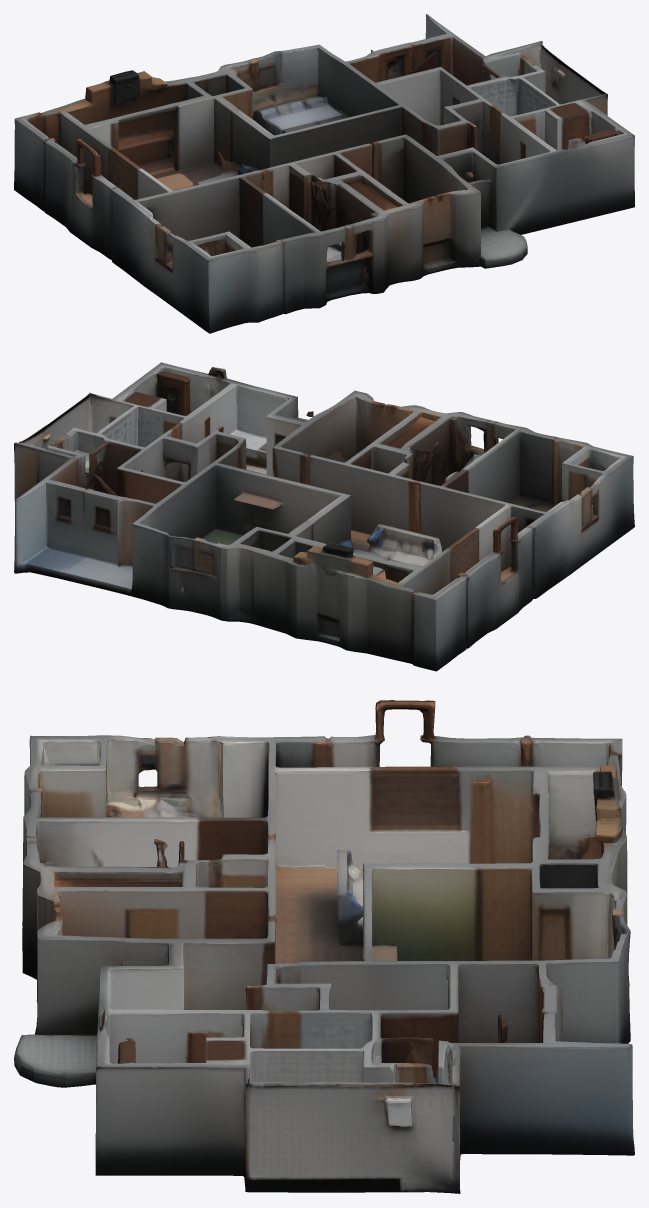
3 views of the same model, one above another, from view 1: azimuth 30°, elevation 25°; view 2: azimuth 150°, elevation 25°; view 3: azimuth 270°, elevation 25° (orthographic). The views are drawn at different scales.
Visible parts, largest first — view 1: world; view 2: world; view 3: world.
Boxes of the visible parts, bbox=[...] form: world: bbox=[14, 14, 634, 333]; world: bbox=[14, 362, 634, 671]; world: bbox=[14, 700, 634, 1193].
Size of the model in its own units: 0.9996 by 0.1941 by 0.7441.
Materials: 1 (1 with a texture image).
